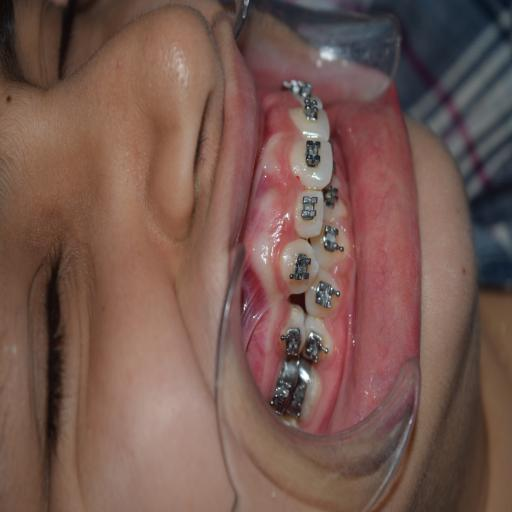correct_brace: (301, 315, 337, 372), (276, 302, 306, 362), (301, 330, 331, 368), (287, 252, 314, 285), (302, 140, 326, 170), (298, 194, 320, 224)
incorrect_brace: (294, 188, 326, 238), (280, 324, 301, 360)
